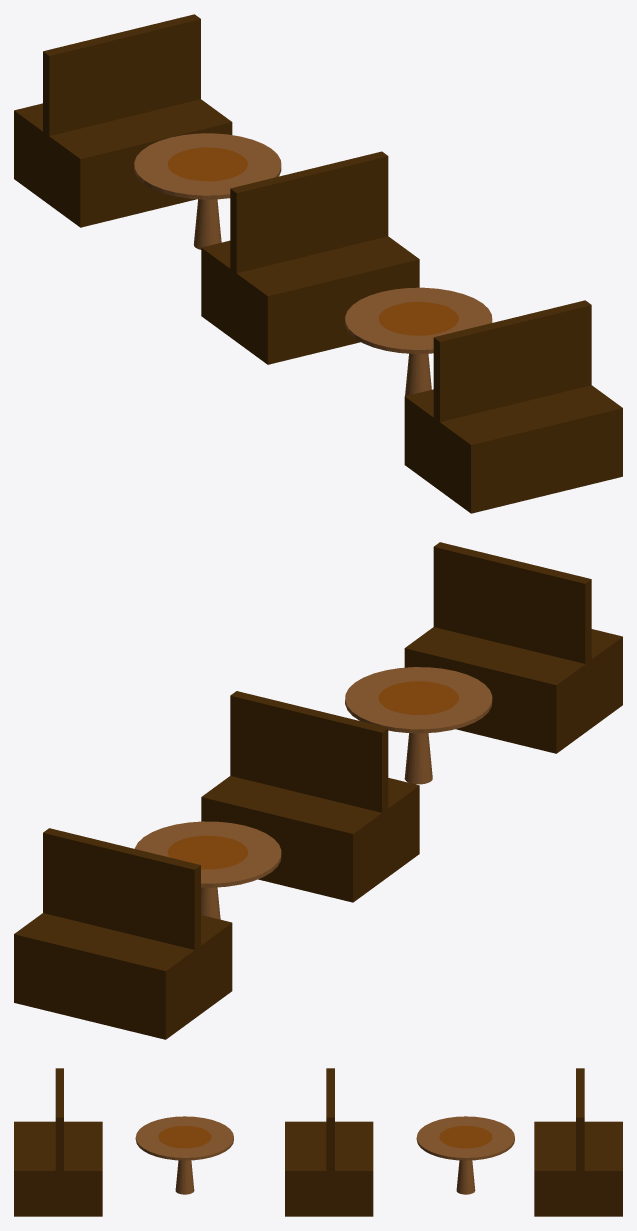
File: bar_area.obj
3 views of the same model, one above another, from view 1: azimuth 30°, elevation 25°; view 2: azimuth 150°, elevation 25°; view 3: azimuth 270°, elevation 25° (orthographic). The views are drawn at different scales.
Parts seen in each view (by area): view 1: Cube.006_Cube.009; view 2: Cube.006_Cube.009; view 3: Cube.006_Cube.009.
Boxes of the visible parts, x1=… form: Cube.006_Cube.009: x1=14, y1=14, x2=622, y2=513; Cube.006_Cube.009: x1=14, y1=542, x2=622, y2=1039; Cube.006_Cube.009: x1=14, y1=1068, x2=622, y2=1216.
Bounding box in the file's own units: 2.75 × 2.57 × 14.32.
